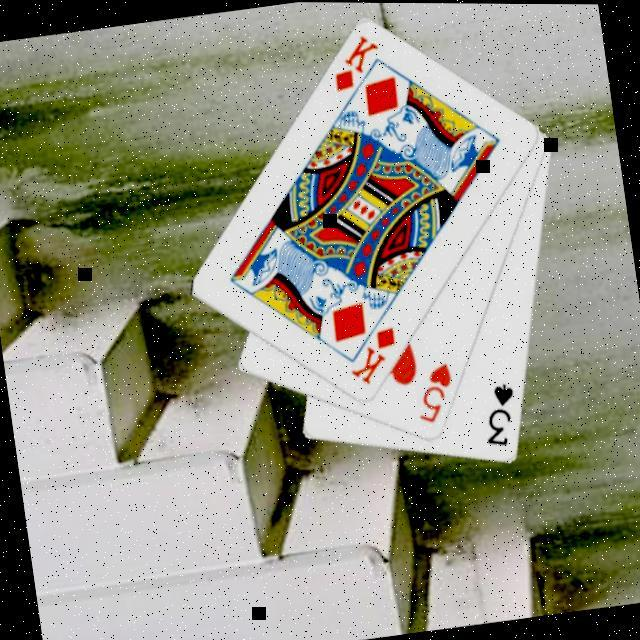3S: (475, 380, 524, 453)
5H: (408, 361, 460, 431)
KD: (340, 323, 404, 391), (324, 31, 387, 98)
